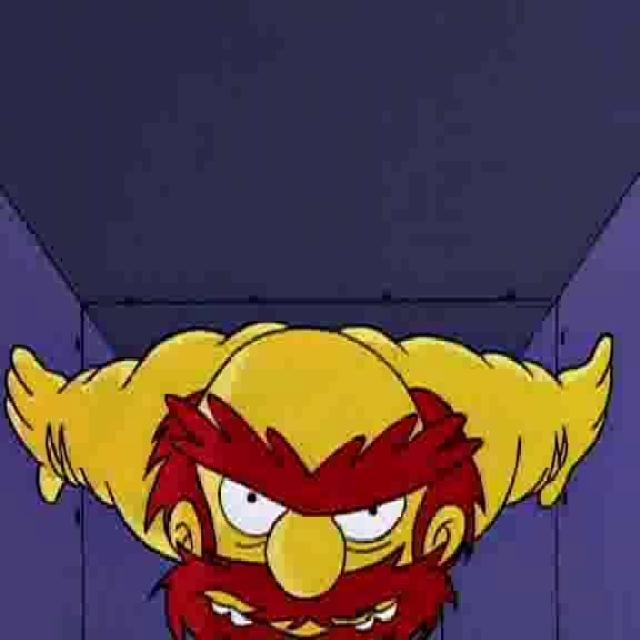Groundskeeper Willie: (143, 324, 487, 640)
